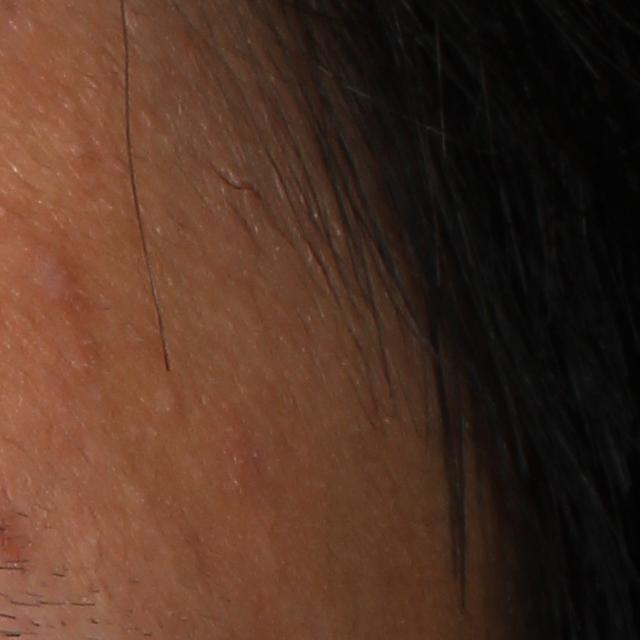comedo: (156, 383, 187, 427)
papule: (32, 250, 79, 299)
